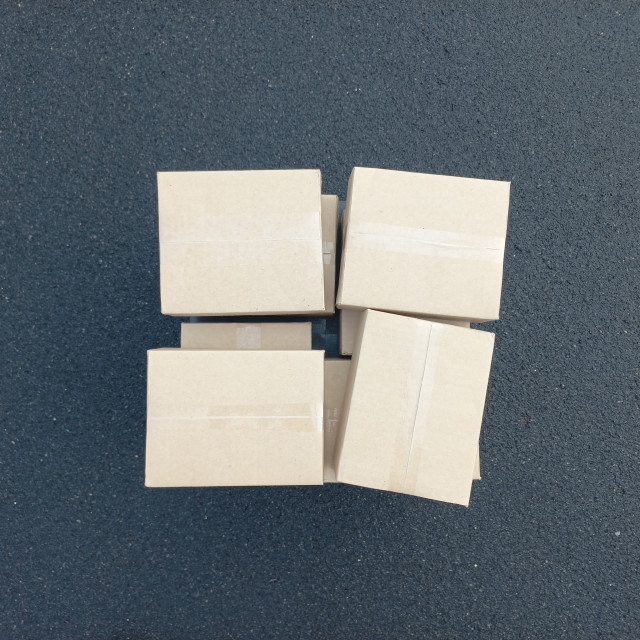box: (332, 307, 497, 511), (334, 162, 513, 323), (142, 346, 327, 491), (155, 166, 330, 319)
